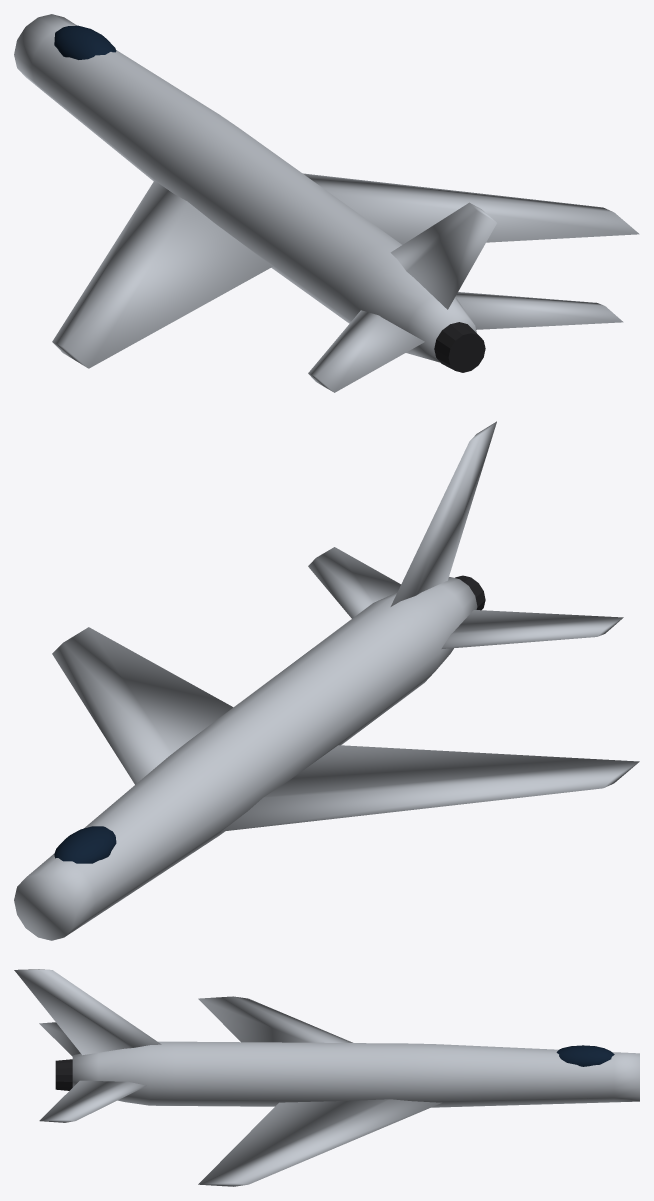
The picture shows the model from 3 angles, top to bottom: view 1: azimuth 30°, elevation 25°; view 2: azimuth 150°, elevation 25°; view 3: azimuth 270°, elevation 25°; orthographic projection. The views are drawn at different scales.
Visible parts, largest first — view 1: Body, Detail, Canopy; view 2: Body, Canopy; view 3: Body, Canopy, Detail.
Part boxes in pixels (x1,y1,x2,y2): Body: (14,14,639,392); Detail: (434,322,485,372); Canopy: (54,25,116,59); Body: (14,421,639,940); Canopy: (54,826,116,863); Body: (14,969,639,1186); Canopy: (556,1045,614,1066); Detail: (55,1059,72,1090).
Bounding box in the file's own units: 11.8 × 3.98 × 16.77.
